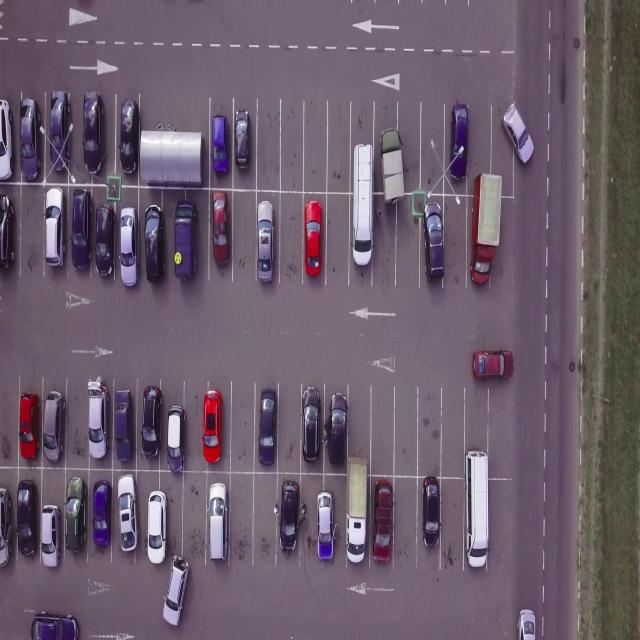Car: (81, 89, 106, 176), (502, 103, 534, 164), (87, 380, 111, 461), (18, 99, 41, 182), (162, 556, 189, 625), (15, 479, 38, 559), (42, 391, 67, 464), (143, 204, 165, 286), (64, 477, 88, 552), (118, 472, 140, 553), (93, 203, 116, 279), (45, 186, 66, 268), (18, 391, 42, 462), (140, 386, 163, 460), (373, 479, 393, 564), (50, 90, 70, 174), (119, 206, 139, 288), (118, 99, 139, 177), (424, 203, 445, 281), (201, 390, 223, 464), (300, 386, 321, 462), (257, 387, 277, 466), (256, 200, 274, 284), (304, 200, 323, 278), (146, 490, 166, 564), (328, 392, 348, 466), (91, 479, 112, 549), (422, 476, 442, 548), (450, 104, 469, 179), (31, 610, 78, 640), (114, 389, 133, 463), (166, 404, 186, 474), (279, 480, 298, 553), (41, 506, 63, 569), (211, 192, 230, 263), (472, 348, 513, 380), (316, 491, 334, 561), (0, 99, 14, 182), (210, 116, 230, 174), (234, 110, 252, 170), (0, 194, 14, 269), (0, 486, 12, 568), (517, 609, 536, 640)
Truck: (470, 173, 502, 285), (346, 455, 368, 563), (379, 126, 405, 205)
Van: (464, 446, 489, 571), (352, 142, 376, 268), (173, 201, 198, 278), (207, 481, 228, 562)
